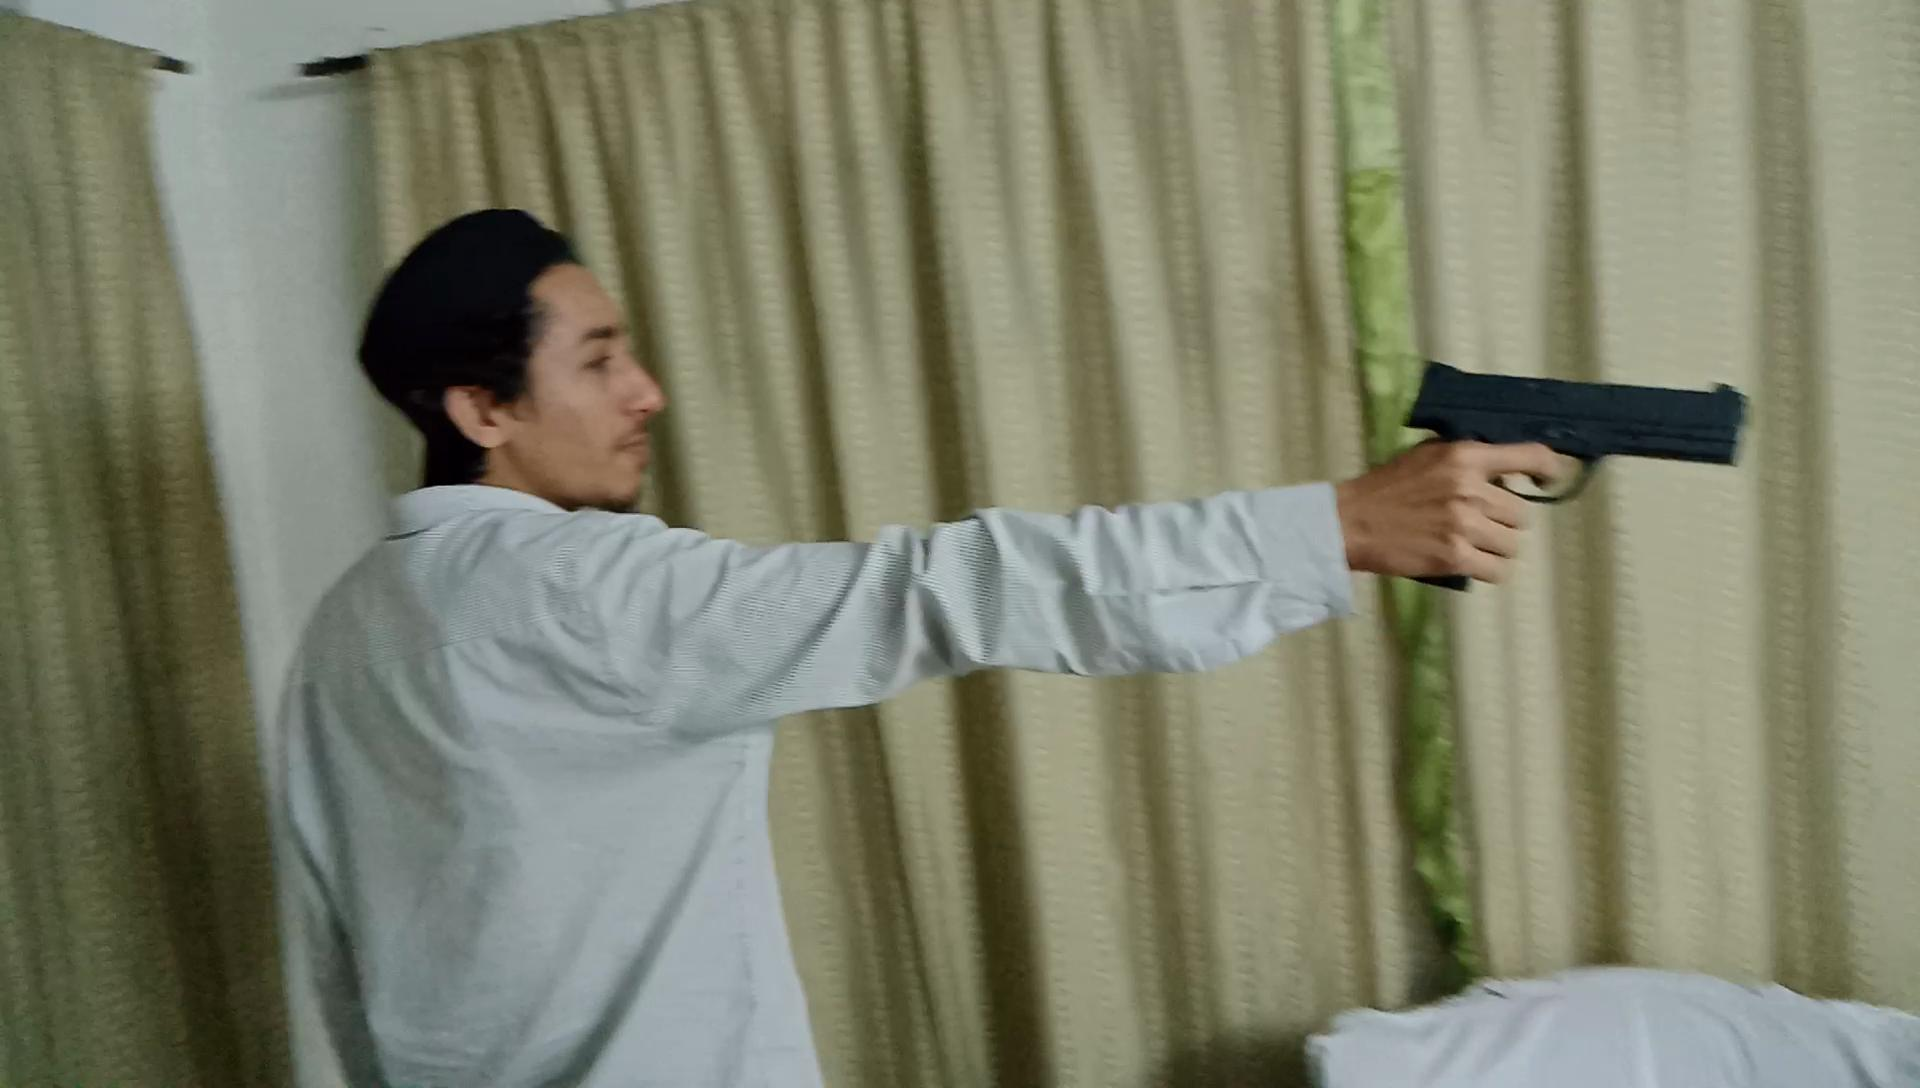criminal: (273, 203, 1763, 1088)
weapon: (1387, 353, 1760, 603)
